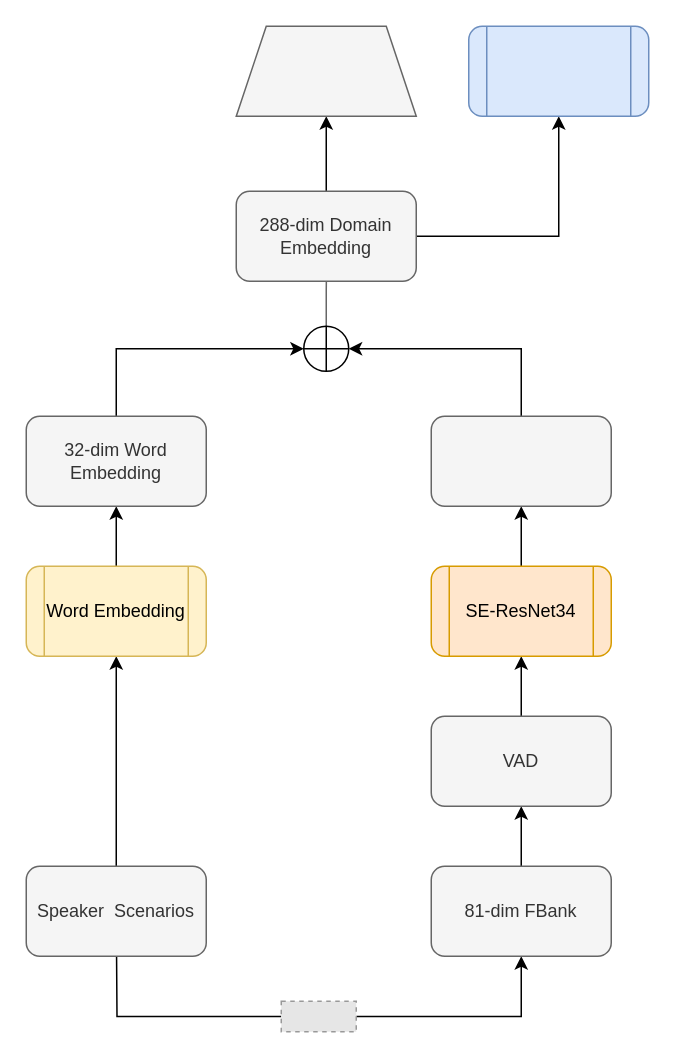
This 675x1059 diagram has some shape labels left out. Grey dashed boxes stand in for pictures. The box of each missing label's shape, as (x1, y1, x2, y2) in pixels:
256-dim Speaker Embedding: (430, 415, 611, 506)
Back-end: (467, 25, 649, 116)
Classification: (235, 25, 416, 116)
